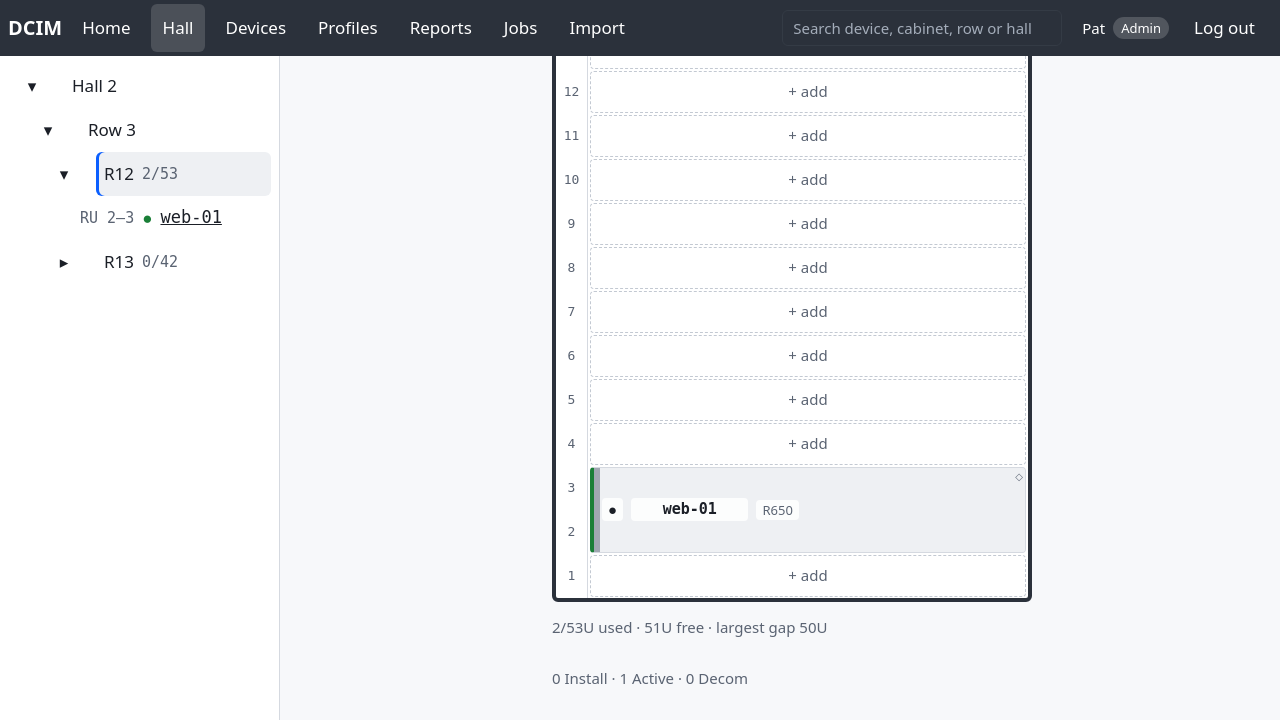
Test: phone shell › cabinet: phone hint + palette in a phone-hidden wrapper; tapping an empty RU opens Choose profile (no drag)
(page scrolled)
Click the button with test id "slot-front-1".
click(808, 576)  # box [590,555,1026,597]
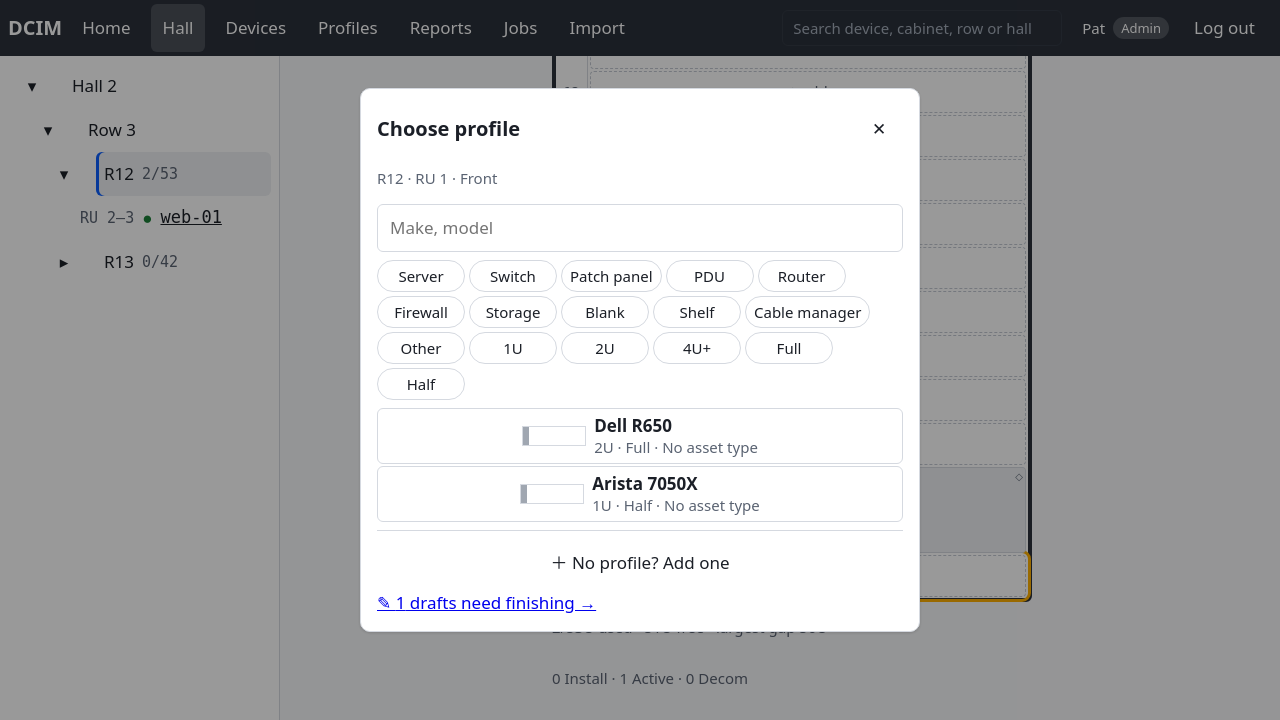
Result: the dialog "Choose profile" is shown
